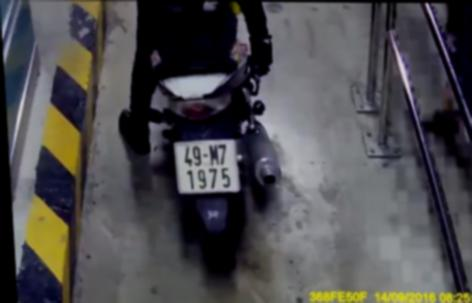License_Plate: (167, 138, 248, 198)
